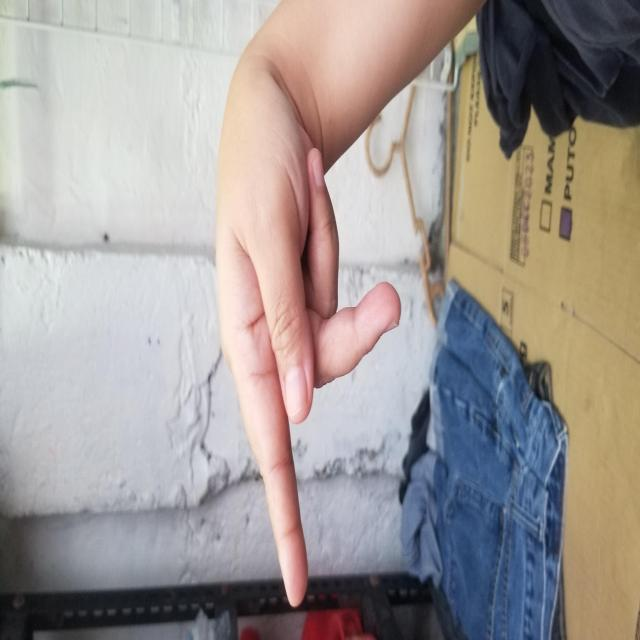P: (169, 85, 438, 622)
